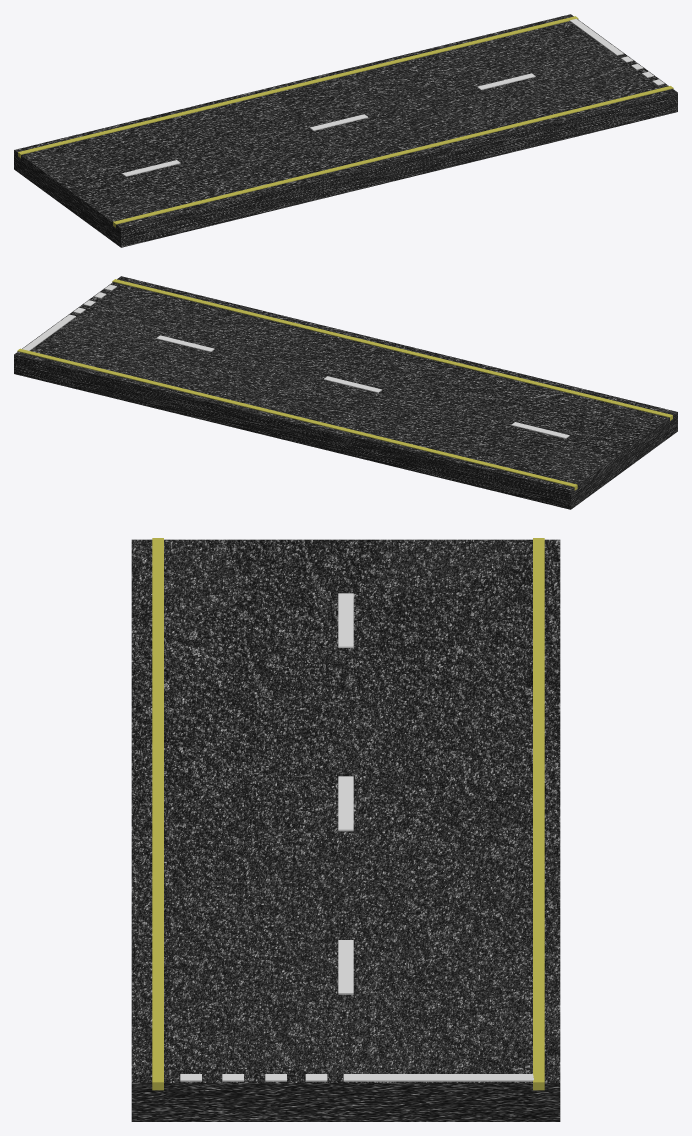
Rendered from road with lines.fbx.
3 views of the same model, one above another, from view 1: azimuth 30°, elevation 25°; view 2: azimuth 150°, elevation 25°; view 3: azimuth 270°, elevation 25° (orthographic). The views are drawn at different scales.
Parts seen in each view (by area): view 1: pCube51; view 2: pCube51; view 3: pCube51.
Part boxes in pixels (<box>): pCube51: <box>14,14,677,247</box>; pCube51: <box>14,276,677,509</box>; pCube51: <box>131,538,560,1121</box>.
Size of the model in its own units: 30.04 by 1.04 by 10.
3 materials, 1 textured.
